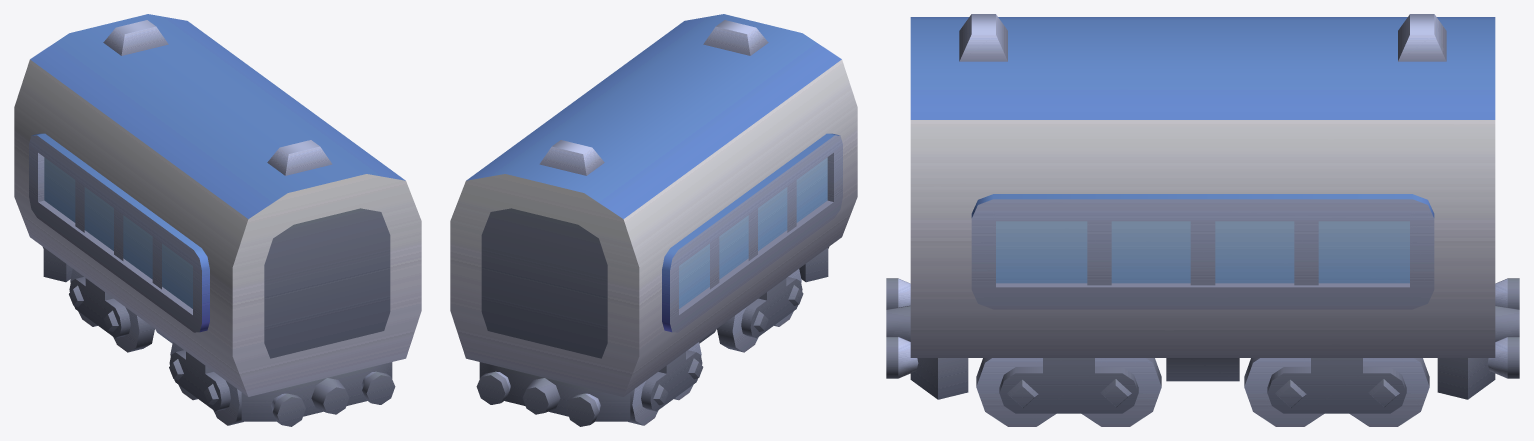
File: train-electric-bullet-c.glb
The picture shows the model from 3 angles, left to right: view 1: azimuth 30°, elevation 25°; view 2: azimuth 150°, elevation 25°; view 3: azimuth 270°, elevation 25°; orthographic projection. The views are drawn at different scales.
Parts seen in each view (by area): view 1: train-electric-bullet-c, wheels-back, wheels-front; view 2: train-electric-bullet-c, wheels-front, wheels-back; view 3: train-electric-bullet-c, wheels-front, wheels-back.
Part boxes in pixels (x1,y1,x2,y2): train-electric-bullet-c: (14, 14, 421, 426); wheels-back: (69, 269, 154, 352); wheels-front: (169, 342, 243, 425); train-electric-bullet-c: (450, 14, 857, 426); wheels-front: (717, 269, 803, 352); wheels-back: (628, 342, 703, 425); train-electric-bullet-c: (886, 14, 1519, 399); wheels-front: (976, 358, 1161, 426); wheels-back: (1244, 358, 1429, 426).
Bounding box in the file's own units: 1.3 × 1.64 × 2.6.
Materials: 1 (1 with a texture image).
